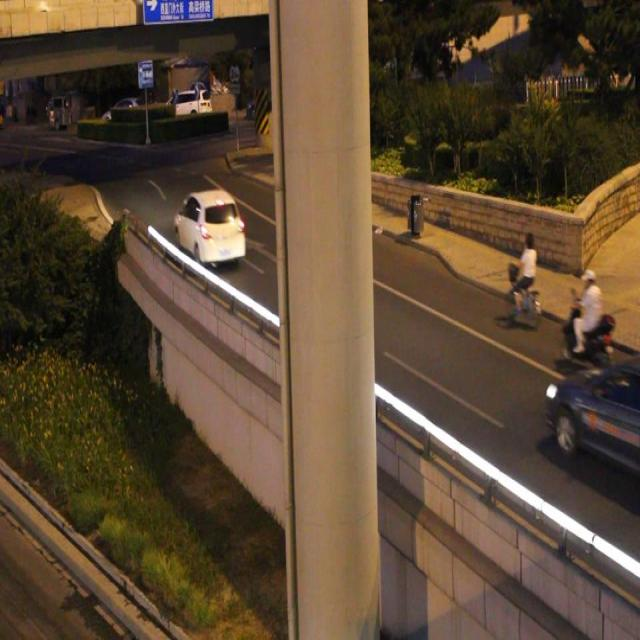car: (545, 352, 640, 481), (174, 189, 245, 265)
